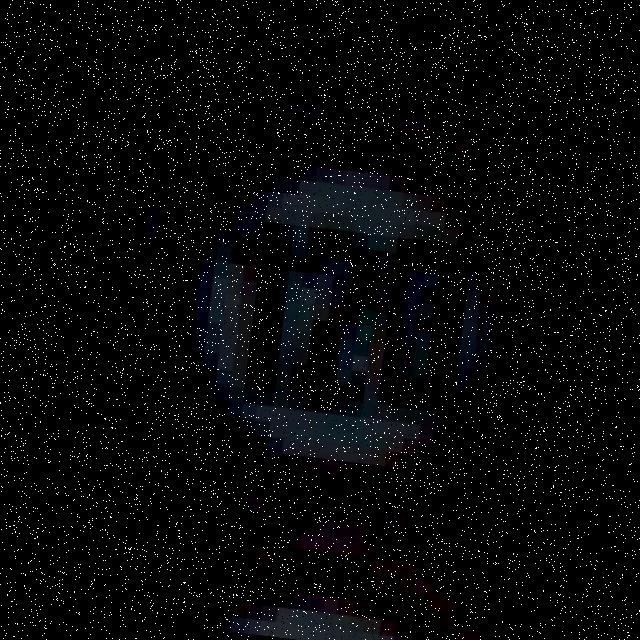Ograniczenie predkosci do 120: (110, 81, 582, 554)
